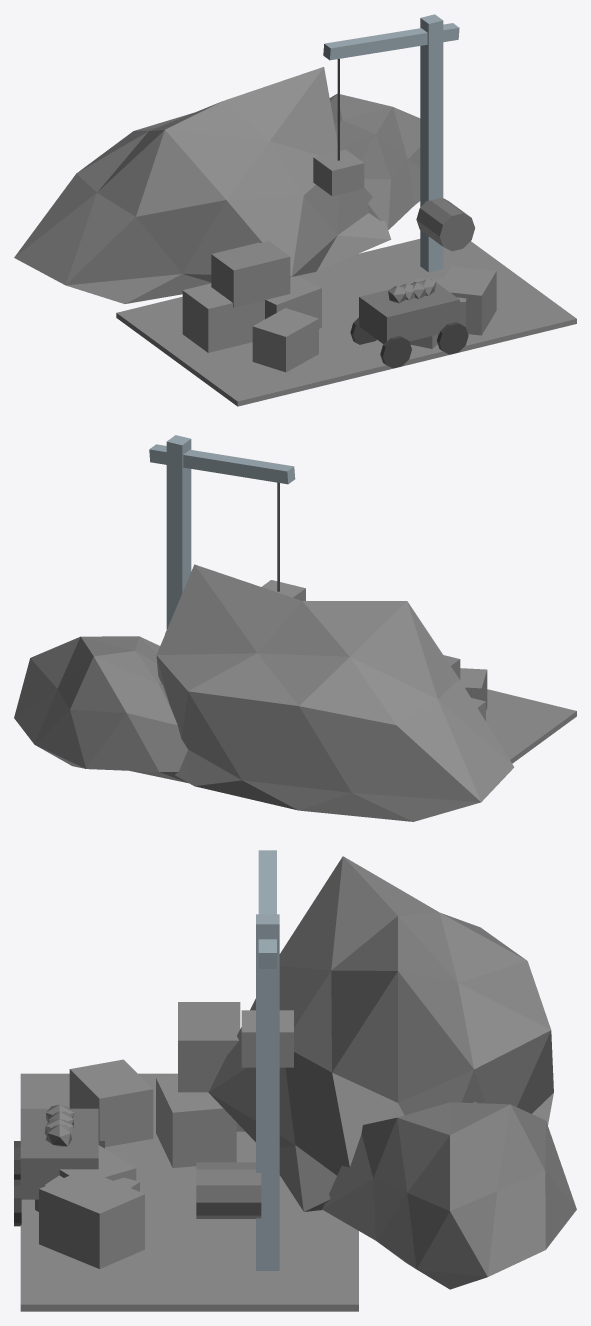
The model's file is quarry.glb.
The picture shows the model from 3 angles, top to bottom: view 1: azimuth 30°, elevation 25°; view 2: azimuth 150°, elevation 25°; view 3: azimuth 270°, elevation 25°; orthographic projection. The views are drawn at different scales.
Parts seen in each view (by area): view 1: quarry; view 2: quarry; view 3: quarry.
Part boxes in pixels (x1=…): quarry: x1=14, y1=14, x2=576, y2=406; quarry: x1=14, y1=435, x2=576, y2=821; quarry: x1=14, y1=850, x2=576, y2=1311.
Size of the model in its own units: 5.26 by 3 by 4.33.
